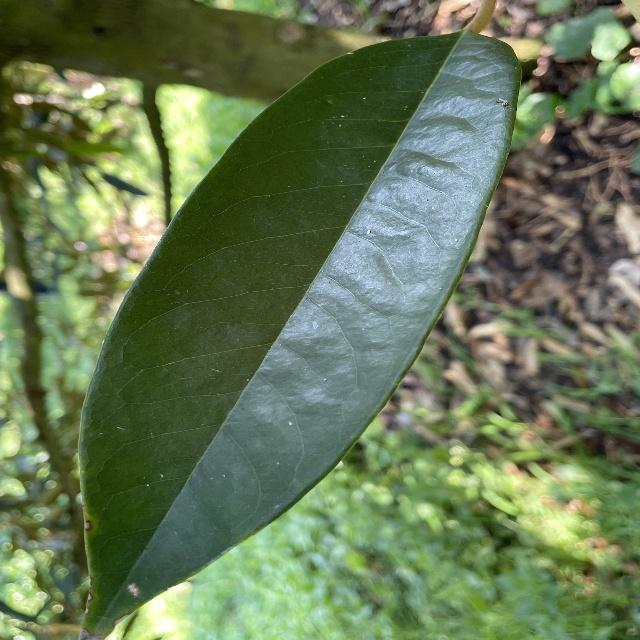No Disease: (63, 25, 529, 640)
